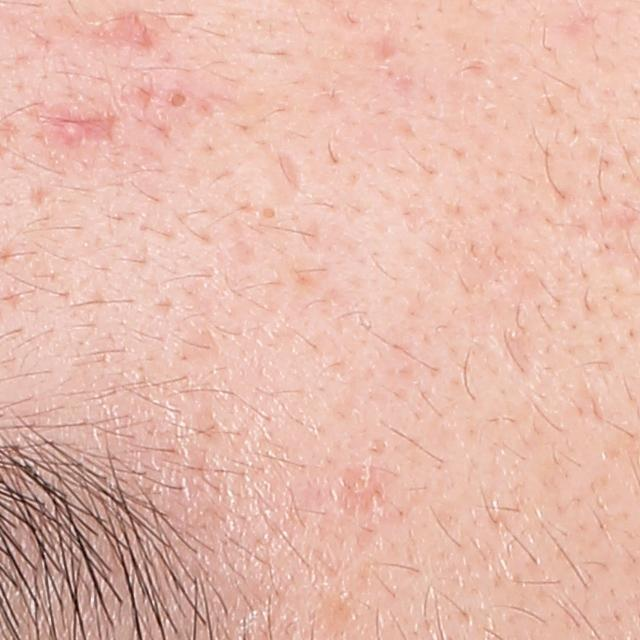atrophic_scar: (334, 422, 406, 528), (70, 12, 166, 68), (492, 332, 538, 396), (44, 114, 117, 141), (370, 25, 417, 66), (277, 150, 306, 194)
comedo: (162, 82, 194, 118), (254, 205, 284, 222)
